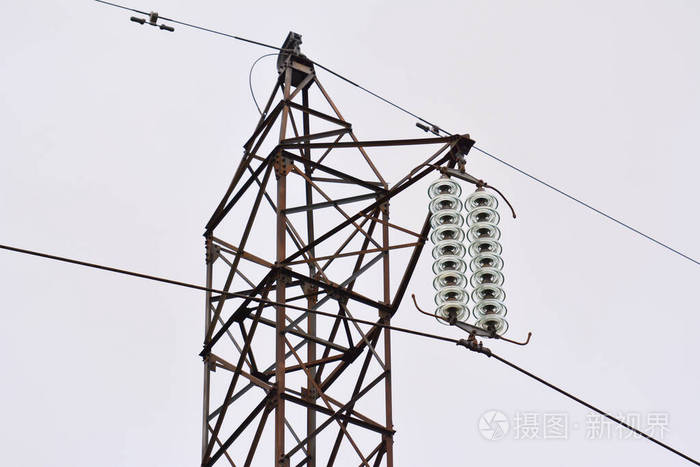insulator: (465, 191, 508, 338), (427, 181, 469, 323)
